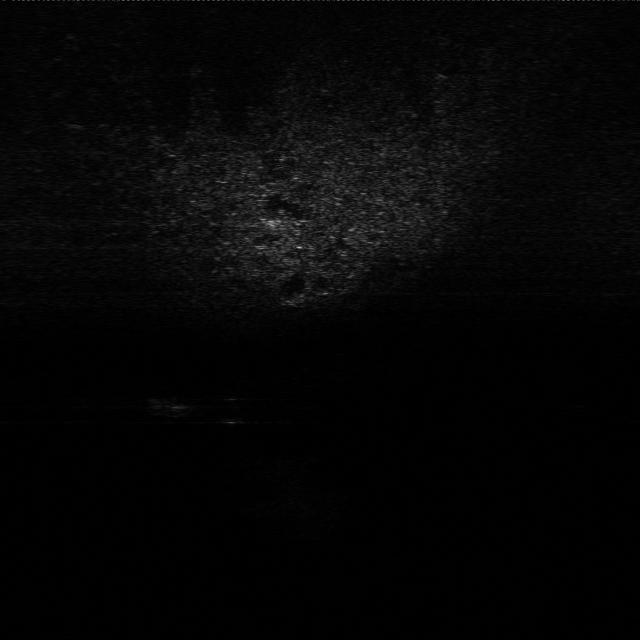ball: (213, 396, 253, 426)
circle cage: (137, 388, 203, 423)
